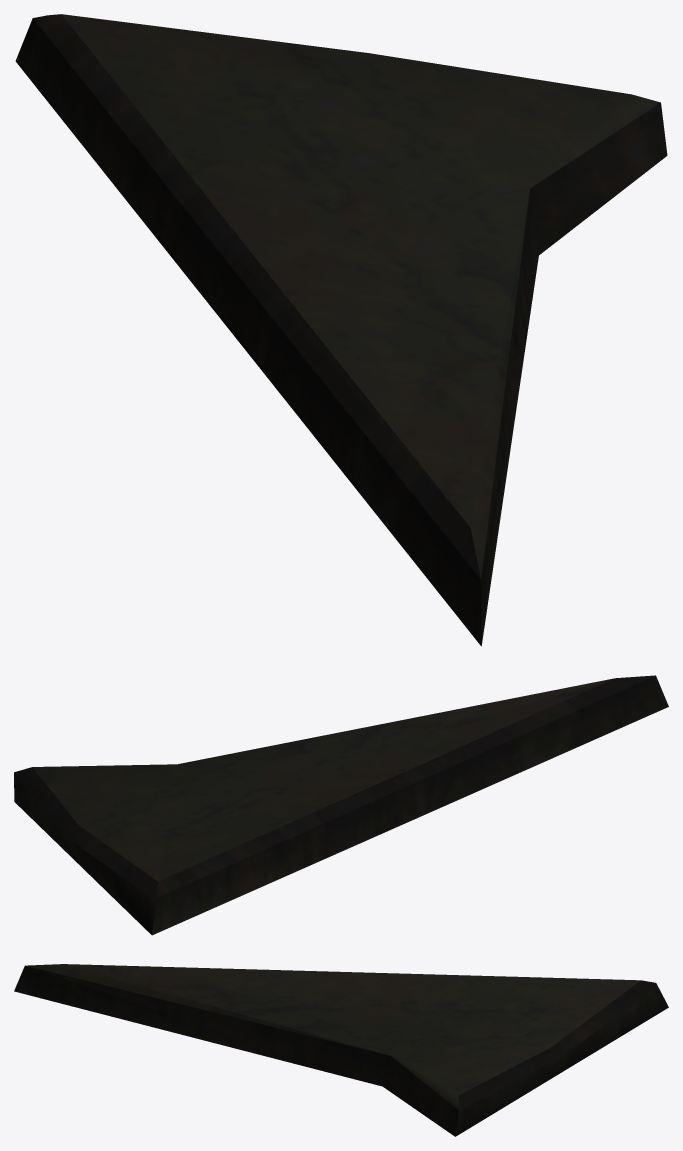
File: shards_glass_single_02.dae
3 renders of one model, top to bottom at view 1: azimuth 30°, elevation 25°; view 2: azimuth 150°, elevation 25°; view 3: azimuth 270°, elevation 25°, orthographic. The views are drawn at different scales.
Visible parts, largest first — view 1: 02; view 2: 02; view 3: 02.
Part boxes in pixels (<box>): 02: <box>15,14,667,646</box>; 02: <box>14,675,668,935</box>; 02: <box>14,964,668,1136</box>.
Size of the model in its own units: 0.119 by 0.0223 by 0.2153.
